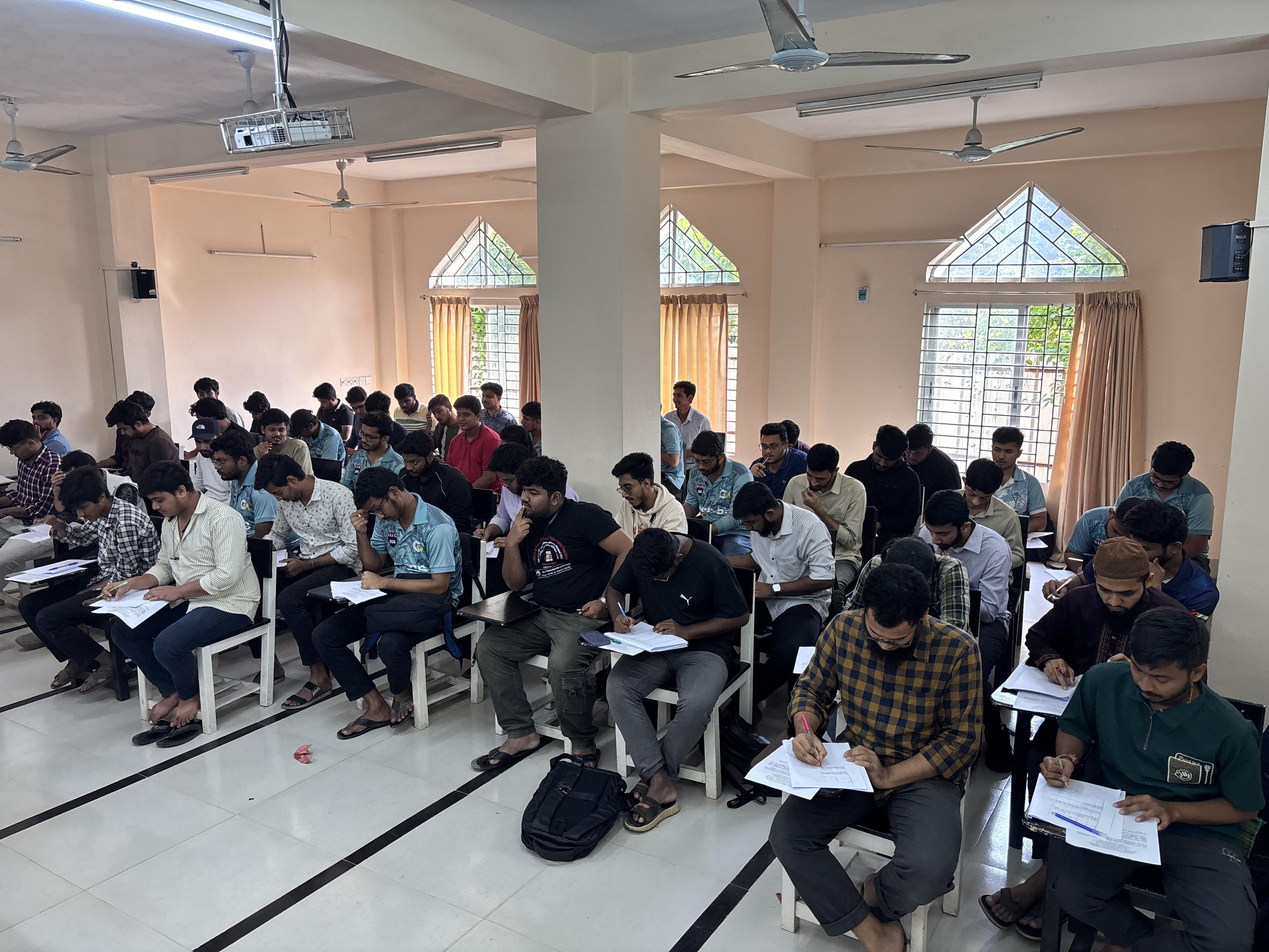copying: (187, 419, 218, 463), (191, 376, 222, 404), (348, 386, 369, 422)
no_cheating: (1055, 605, 1252, 914), (824, 561, 946, 853), (606, 527, 735, 751), (500, 464, 608, 706), (119, 468, 240, 658), (341, 466, 431, 677), (727, 475, 809, 626), (251, 454, 335, 599), (1061, 544, 1162, 651), (53, 477, 119, 586), (1119, 498, 1200, 570), (797, 446, 852, 539), (0, 422, 61, 505), (1134, 440, 1205, 506), (685, 431, 733, 516), (608, 447, 662, 521), (105, 402, 165, 468), (923, 483, 979, 552), (862, 429, 915, 500), (957, 456, 1017, 512), (451, 396, 492, 471), (753, 424, 800, 477), (902, 416, 946, 472), (485, 441, 524, 503), (401, 433, 440, 486), (211, 438, 249, 492), (986, 426, 1031, 471), (358, 417, 395, 463), (29, 396, 66, 432), (290, 406, 325, 439), (479, 380, 508, 419), (423, 391, 447, 434), (243, 390, 267, 425), (393, 383, 420, 414), (312, 384, 344, 409)
side_talking: (665, 371, 704, 431), (259, 409, 297, 458), (517, 396, 545, 437)
